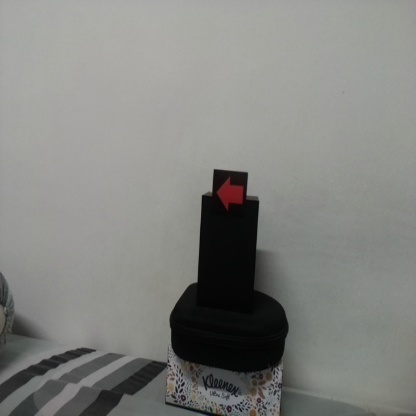id_4: (213, 170, 247, 218)
